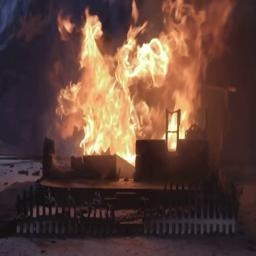fire: (45, 2, 239, 169)
